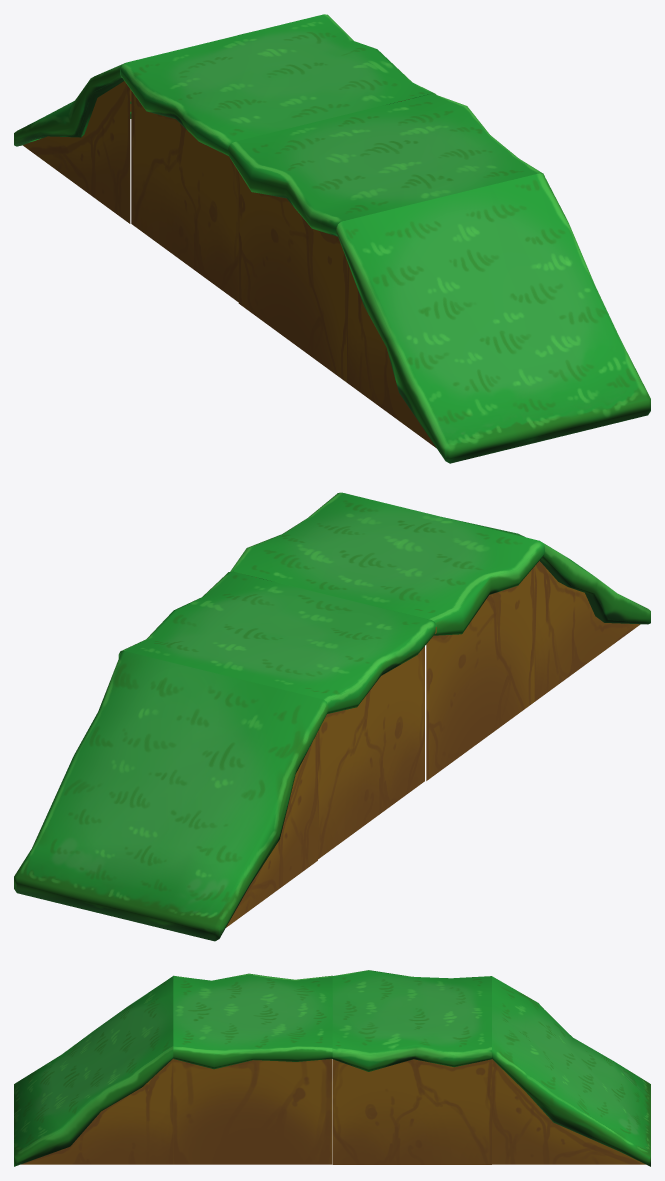
Rendered from fbx hali.fbx.
3 views of the same model, one above another, from view 1: azimuth 30°, elevation 25°; view 2: azimuth 150°, elevation 25°; view 3: azimuth 270°, elevation 25° (orthographic). The views are drawn at different scales.
Parts seen in each view (by area): view 1: Cube.004, Cube.005, Cube.007, Cube.001, Cube.006, Cube.002, Cube, Cube.003; view 2: Cube.003, Cube.005, Cube.007, Cube.001, Cube.006, Cube, Cube.002, Cube.004; view 3: Cube.001, Cube.006, Cube.003, Cube.004, Cube.007, Cube.005, Cube, Cube.002.
Part boxes in pixels (x1,y1,x2,y2): Cube.004: (336,173,650,463); Cube.005: (228,94,544,236); Cube.007: (120,14,436,155); Cube.001: (238,172,346,382); Cube.006: (131,91,409,301); Cube.002: (23,81,131,223); Cube: (347,261,436,448); Cube.003: (14,32,249,146); Cube.003: (14,651,328,941); Cube.005: (230,492,544,635); Cube.007: (118,571,435,713); Cube.001: (255,567,534,780); Cube.006: (318,646,424,859); Cube: (534,561,640,701); Cube.002: (226,732,317,927); Cube.004: (447,518,650,624); Cube.001: (173,1059,332,1164); Cube.006: (332,1059,491,1164); Cube.003: (492,976,650,1166); Cube.004: (14,976,173,1166); Cube.007: (332,970,491,1071); Cube.005: (173,973,332,1069); Cube: (21,1059,173,1164); Cube.002: (492,1059,645,1164).
Size of the model in its own units: 239 by 170 by 800.
